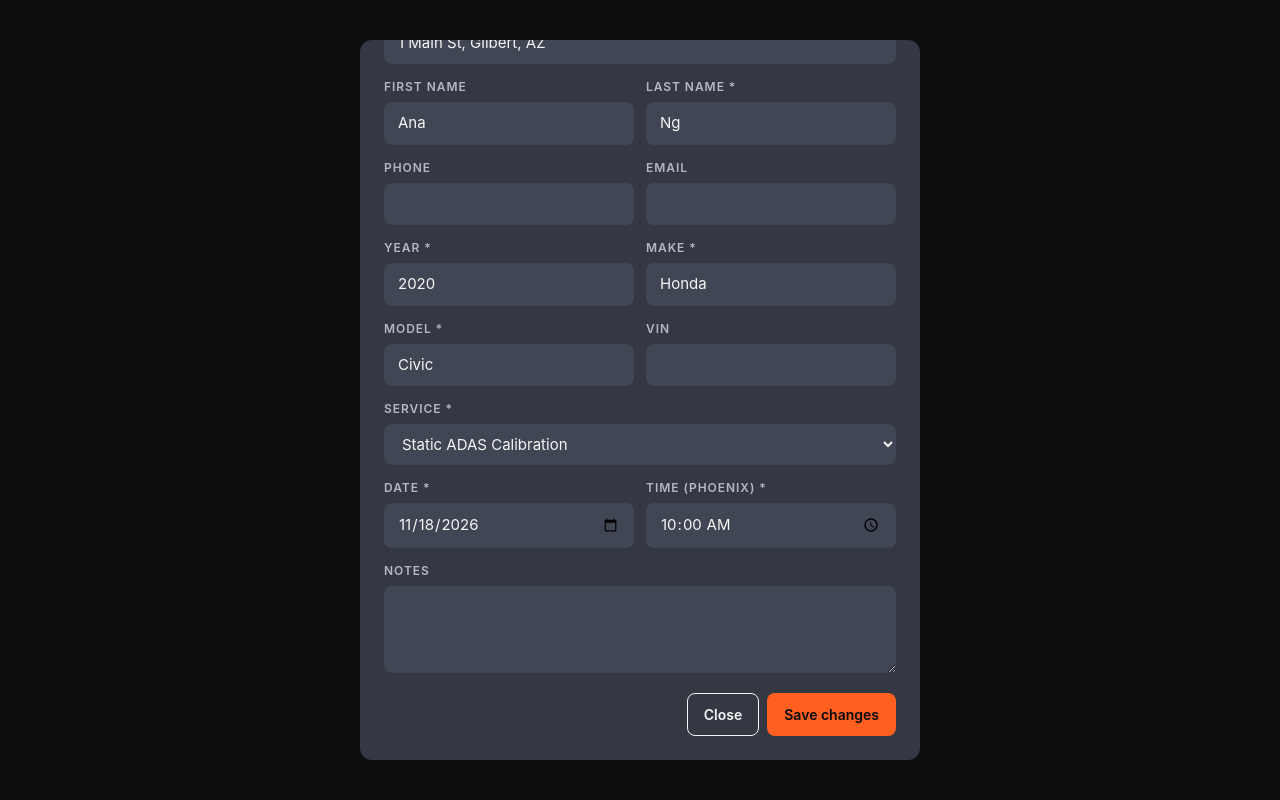
Scenario: rescheduling a shop warranty redo past 30 days asks before it saves
The width and height of the screenshot is (1280, 800).
Later steps or results of the test are not shown.
(page scrolled)
Type "Side gate" into the text box with test id "edit-notes".
click(640, 629); type("Side gate")  # box [384,586,896,673]
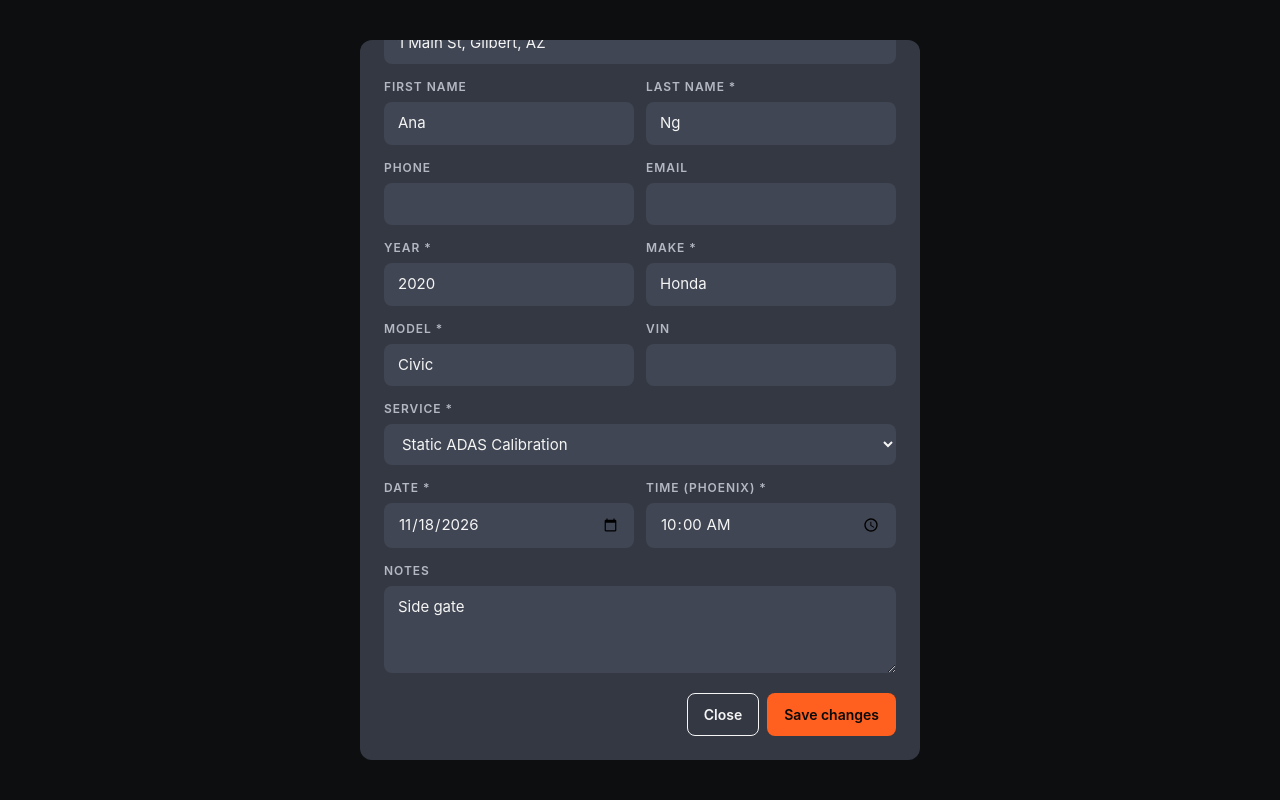
Click the button with test id "edit-save".
click(832, 714)  # box [767,693,896,736]
Type "2026-12-15" into the date field with test id "edit-date".
click(509, 525); type("2026-12-15")  # box [384,503,634,548]
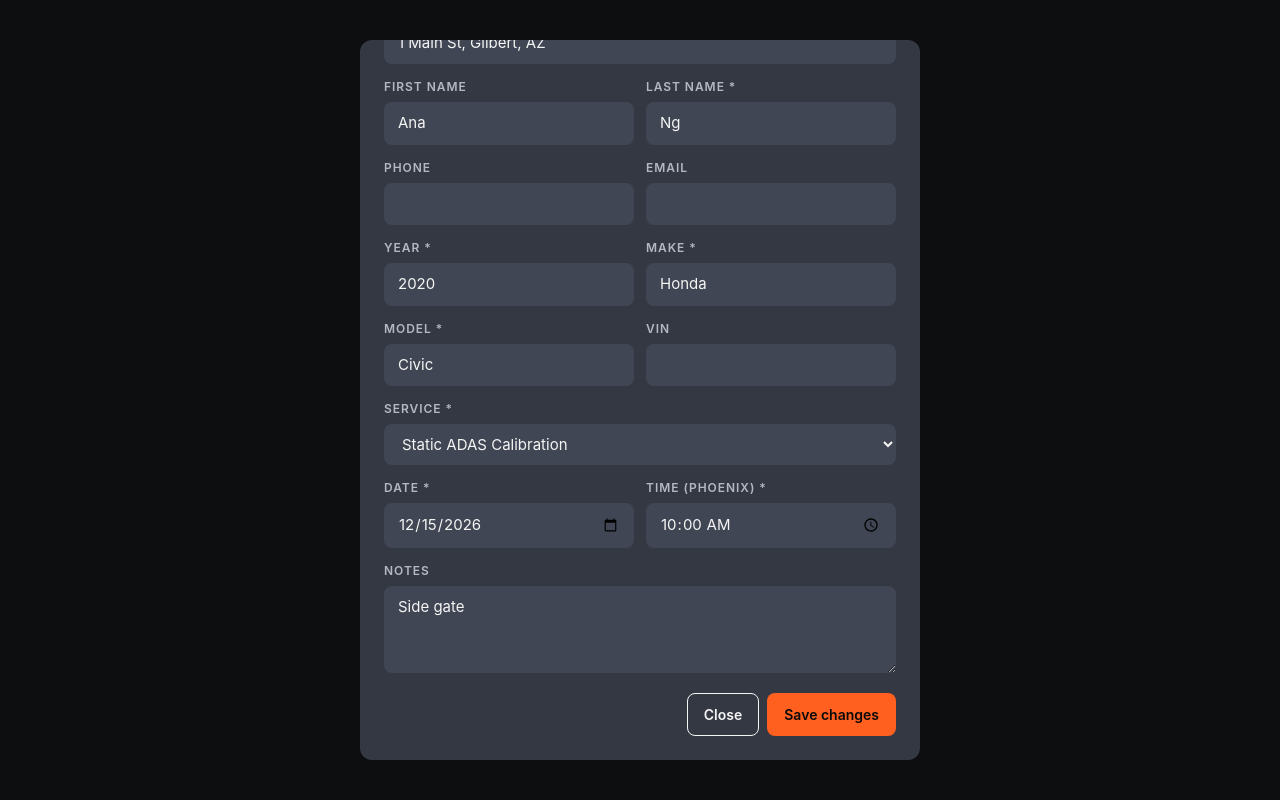
Click the button with test id "edit-save".
click(832, 714)  # box [767,693,896,736]
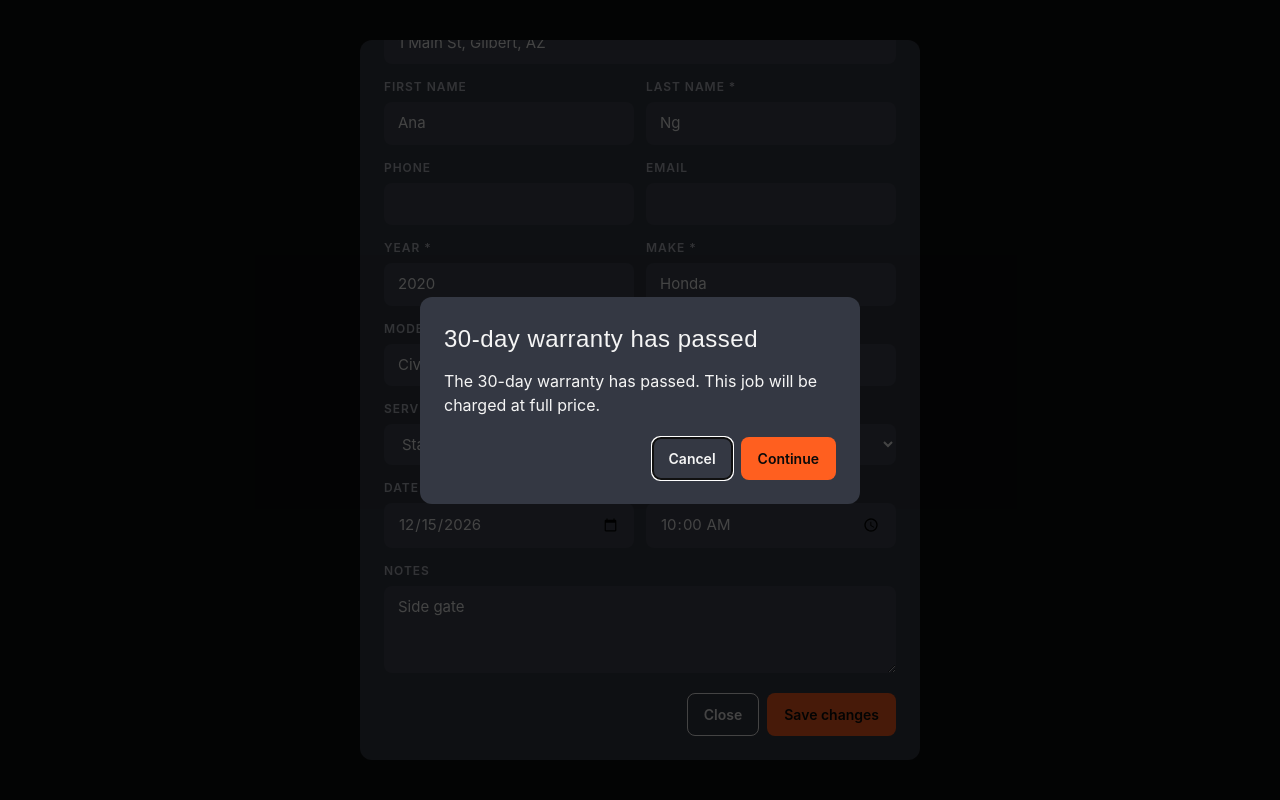
Result: the dialog with test id "warranty-charge-notice" shows "charged at full price" at [444,370,817,414]
